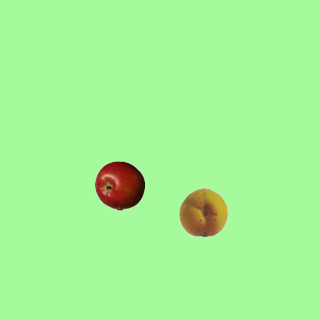Apple Braeburn: (94, 160, 144, 210)
Peach 2: (178, 186, 228, 236)
